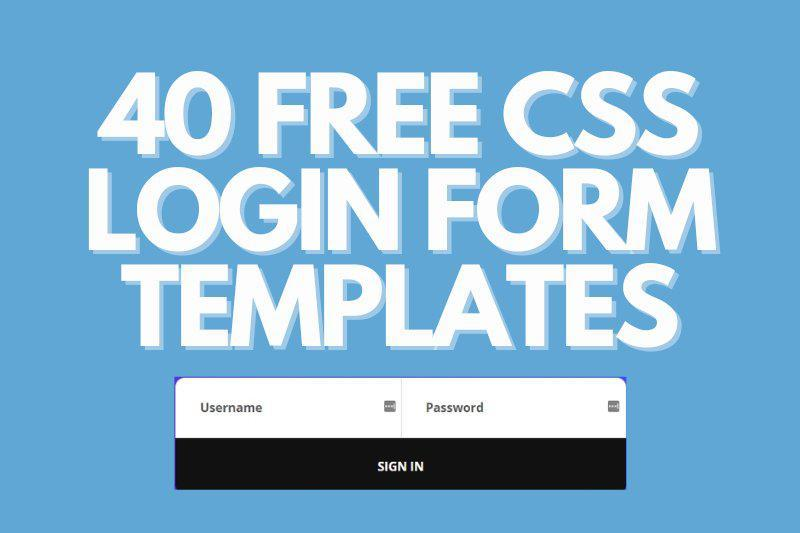button: (175, 440, 628, 491)
input: (176, 377, 405, 440), (407, 378, 628, 439)
